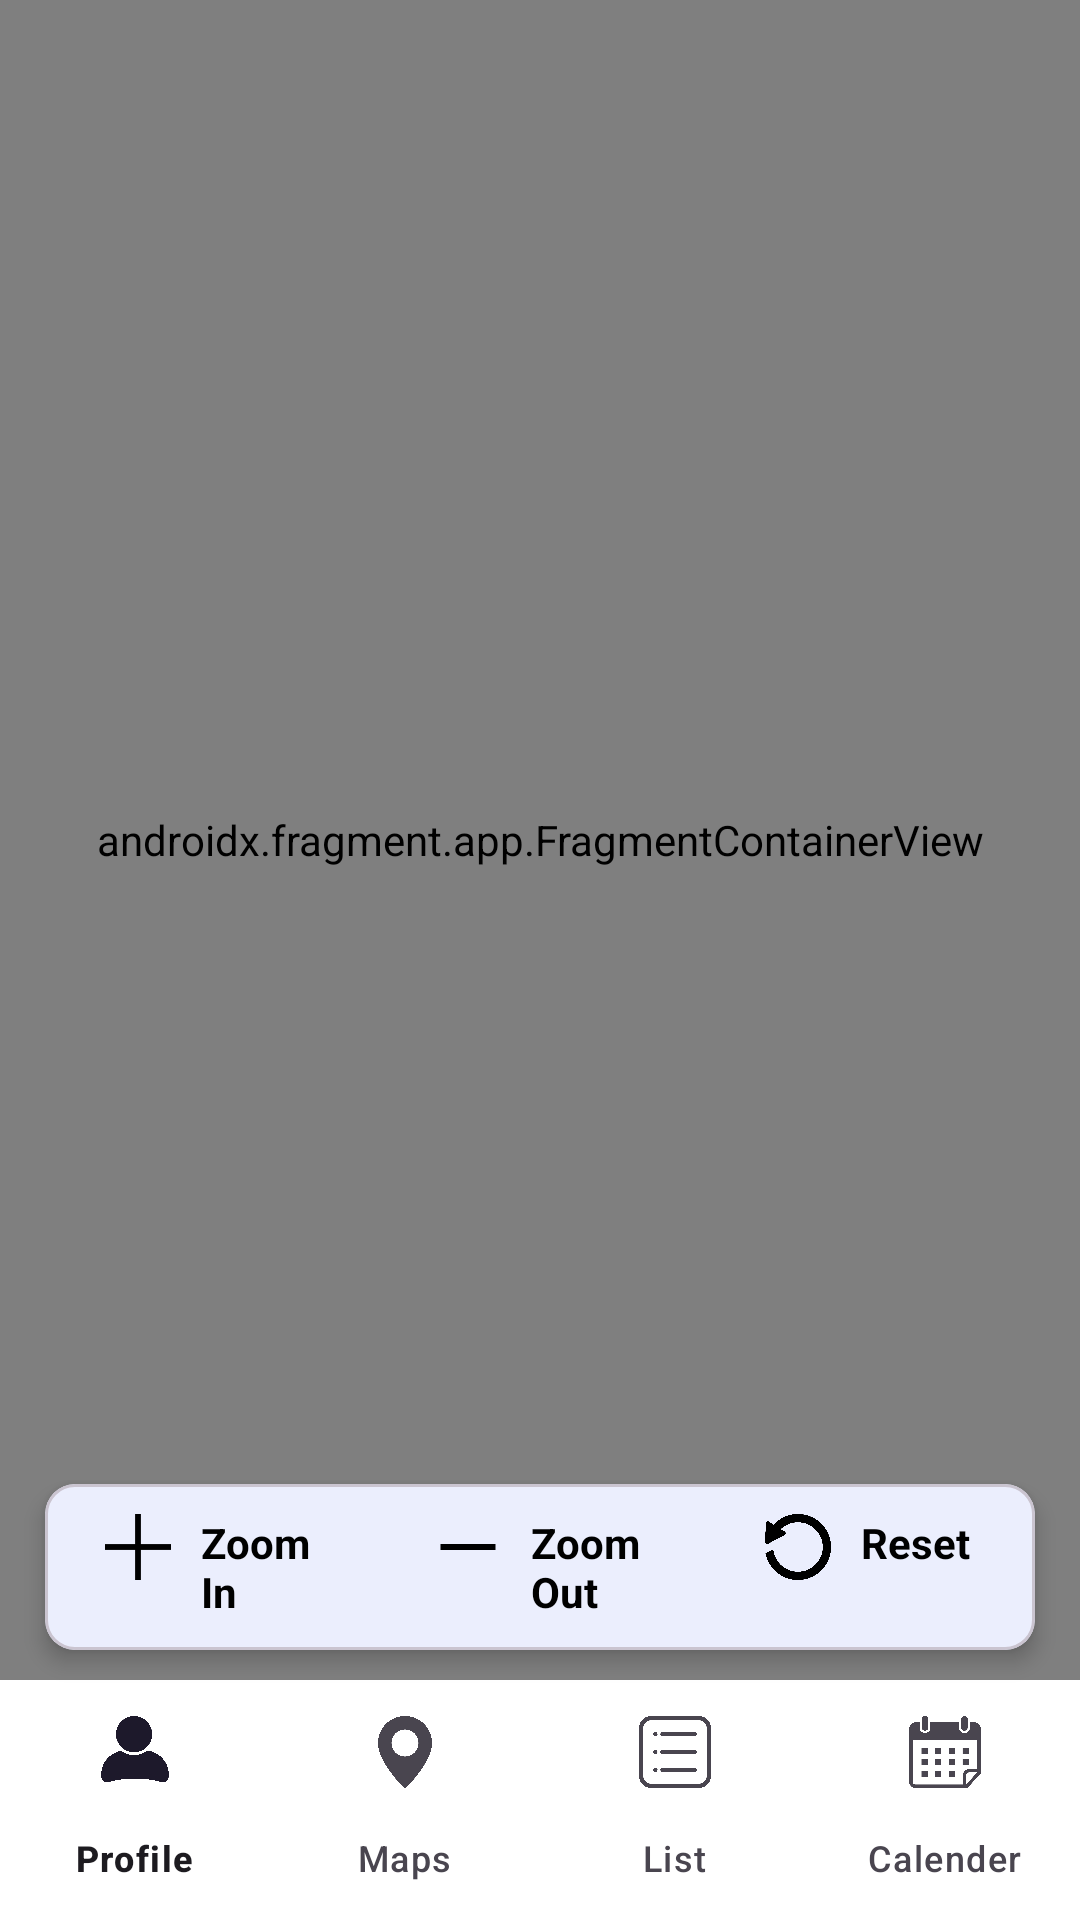

Icons on this 1080×1920 Android screen, each with the point to tap as [x,y]:
add: [138,1547]
